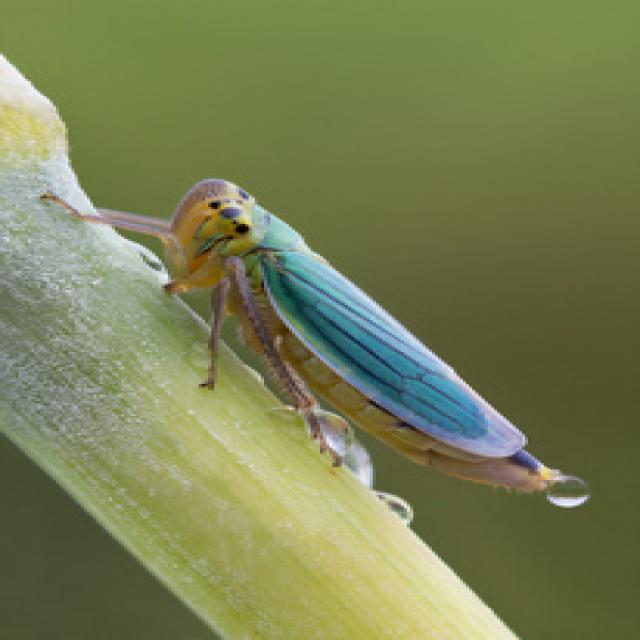Yechan: (148, 169, 562, 503)
